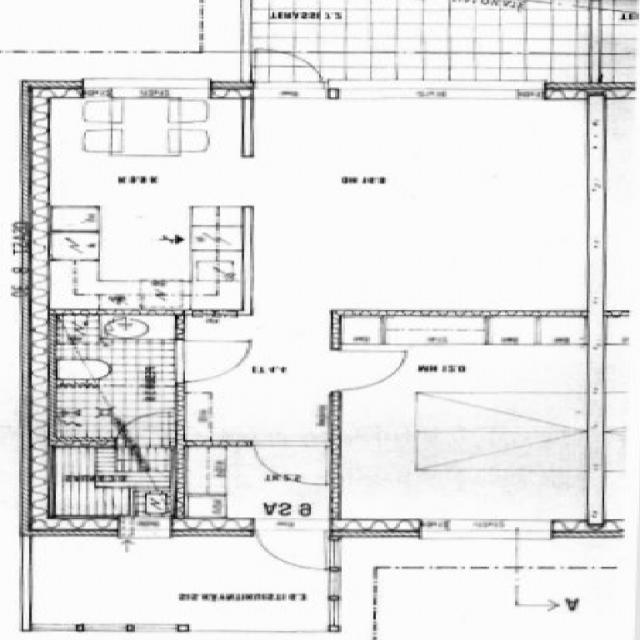door: (253, 519, 325, 577), (257, 42, 326, 98), (330, 350, 414, 392), (175, 341, 256, 382), (254, 440, 326, 486), (118, 408, 170, 445)
